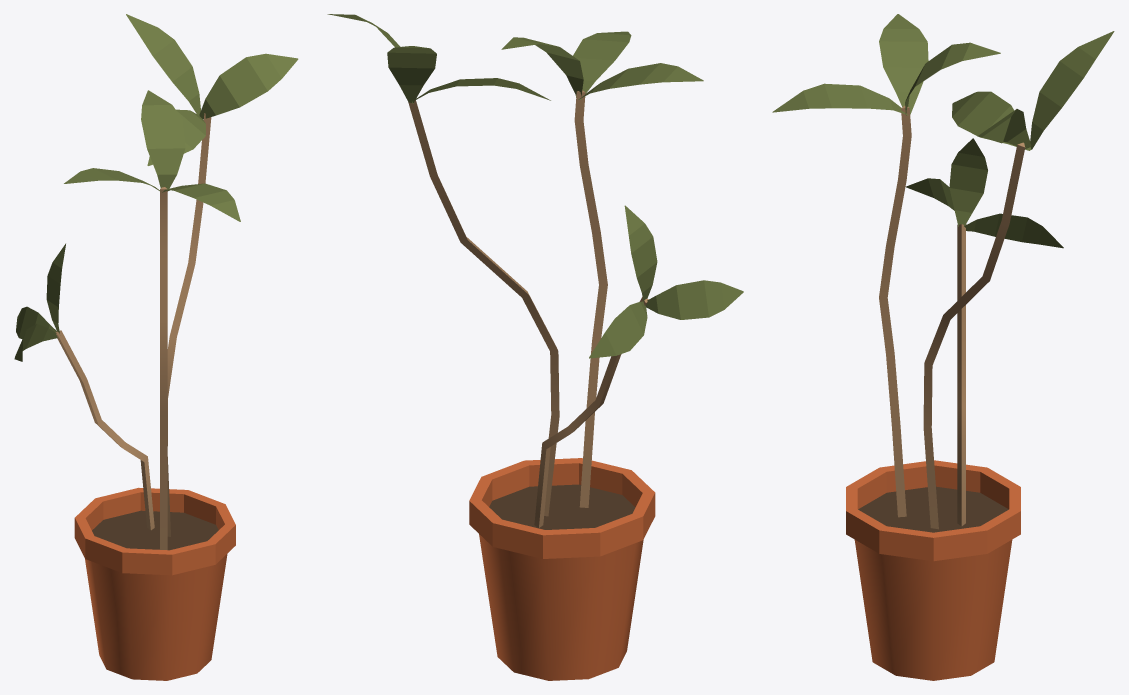
File: SM_plantpot_02.fbx
3 renders of one model, left to right at view 1: azimuth 30°, elevation 25°; view 2: azimuth 150°, elevation 25°; view 3: azimuth 270°, elevation 25°, orthographic. The views are drawn at different scales.
Parts seen in each view (by area): view 1: Cylinder008; view 2: Cylinder008; view 3: Cylinder008.
Boxes of the visible parts, left/top/right/bottom form: Cylinder008: left=14, top=14, right=298, bottom=680; Cylinder008: left=327, top=14, right=743, bottom=680; Cylinder008: left=772, top=14, right=1114, bottom=680.
Size of the model in its own units: 43.59 by 35.72 by 74.94.
